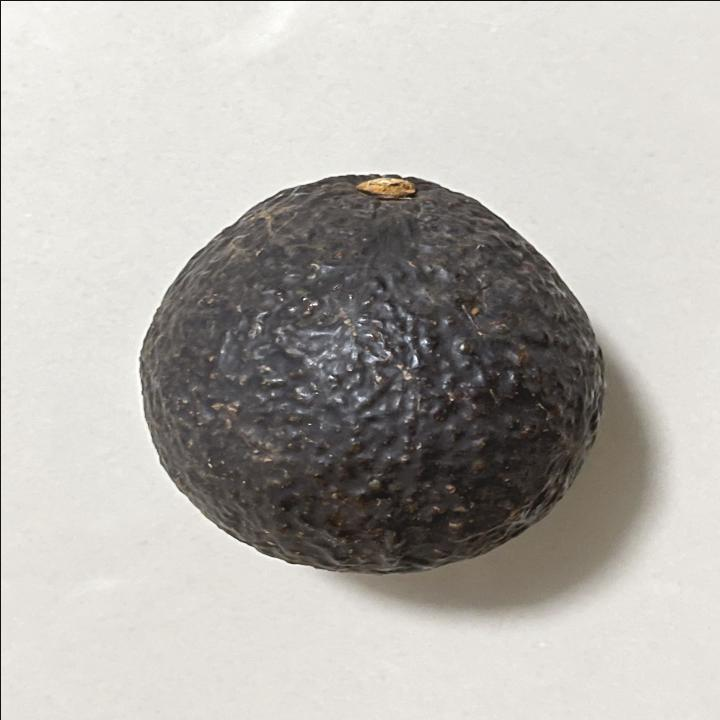Level2: (130, 160, 616, 576)
